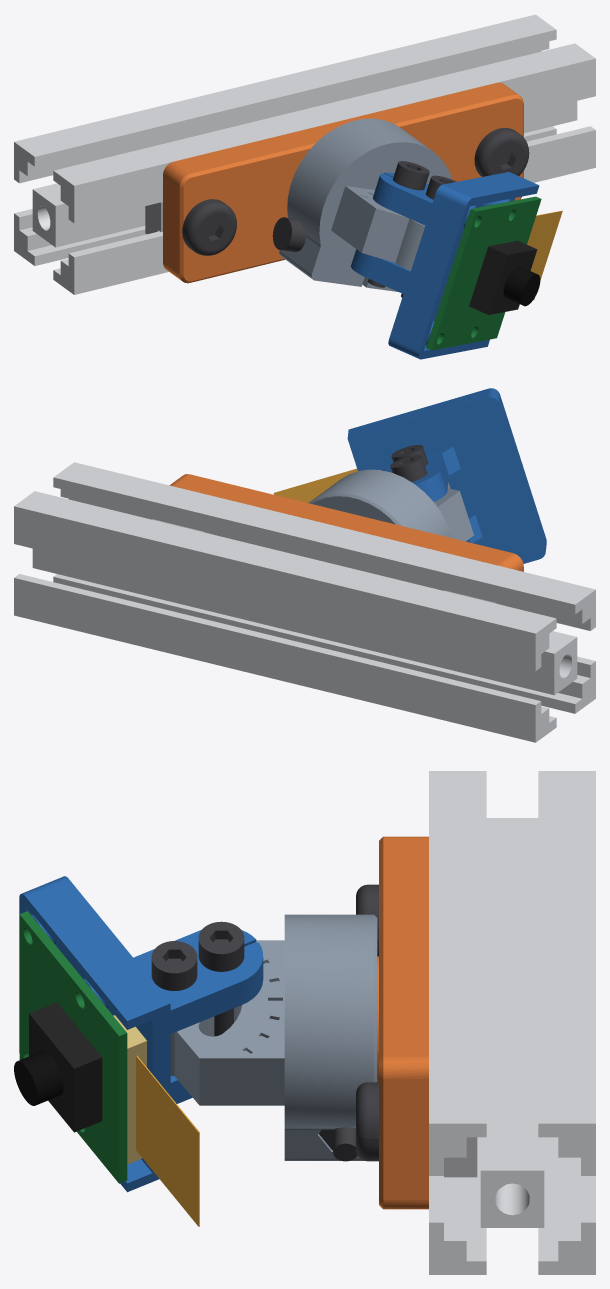
Rendered from camera-mount.glb.
3 renders of one model, top to bottom at view 1: azimuth 30°, elevation 25°; view 2: azimuth 150°, elevation 25°; view 3: azimuth 270°, elevation 25°, orthographic. The views are drawn at different scales.
Parts seen in each view (by area): view 1: part (×5), base, yoke, carrier, camera_pcb, camera_housing, m5_button_1, m5_button_2, camera_ribbon, camera_lens, pan_screw, tilt_lock_screw (+1 smaller); view 2: part (×5), carrier, yoke, base, camera_ribbon, tilt_lock_screw; view 3: part (×5), yoke, base, carrier, camera_pcb, camera_ribbon, camera_housing, tilt_lock_screw, tilt_pivot_screw, camera_lens, m5_button_2, camera_connector (+3 smaller).
Boxes of the visible parts, x1,y1,x2,y2 form: part (×5): (14, 14, 595, 294); base: (163, 82, 523, 283); yoke: (279, 118, 452, 291); carrier: (351, 172, 539, 359); camera_pcb: (426, 196, 541, 350); camera_housing: (469, 240, 537, 314); m5_button_1: (182, 199, 236, 255); m5_button_2: (474, 128, 529, 176); camera_ribbon: (527, 210, 562, 300); camera_lens: (503, 266, 540, 306); pan_screw: (272, 217, 306, 252); tilt_lock_screw: (368, 161, 429, 287); part (×5): (14, 462, 595, 742); carrier: (347, 388, 546, 563); yoke: (308, 469, 473, 541); base: (169, 474, 523, 571); camera_ribbon: (273, 468, 357, 502); tilt_lock_screw: (390, 455, 427, 481); part (×5): (429, 771, 595, 1274); yoke: (170, 914, 377, 1160); base: (377, 836, 428, 1209); carrier: (19, 876, 263, 1192); camera_pcb: (19, 911, 127, 1183); camera_ribbon: (136, 1055, 199, 1226); camera_housing: (29, 1002, 102, 1132); tilt_lock_screw: (198, 921, 244, 1036); tilt_pivot_screw: (151, 941, 197, 990); camera_lens: (14, 1050, 63, 1105); m5_button_2: (356, 1082, 378, 1161); camera_connector: (113, 1015, 146, 1164).
Bounding box in the file's own units: 0.1 × 0.0356 × 0.0697.
